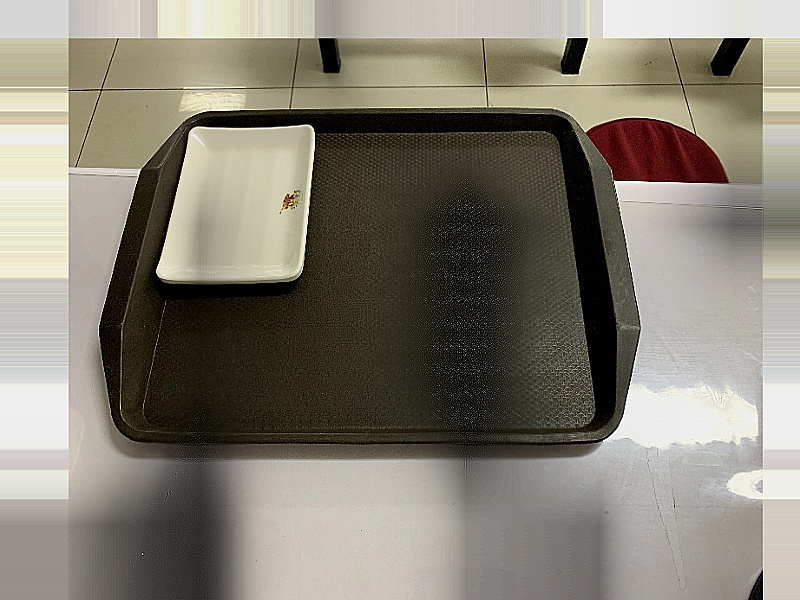dish4: (153, 116, 318, 293)
